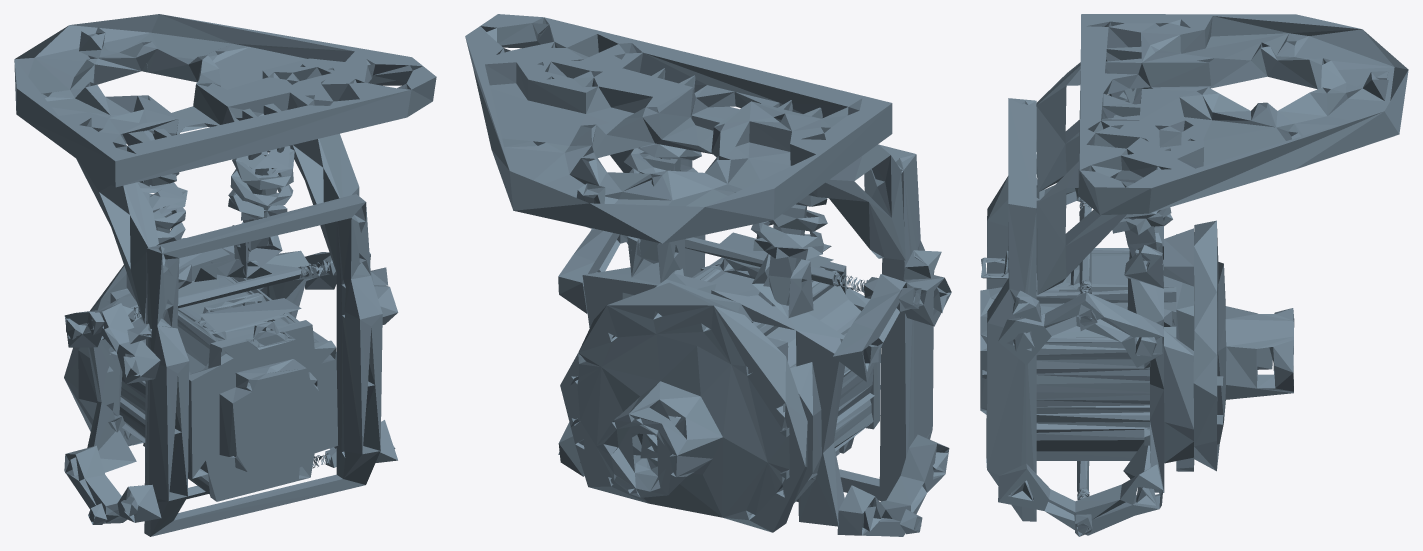
File: steer_FR.dae
3 renders of one model, left to right at view 1: azimuth 30°, elevation 25°; view 2: azimuth 150°, elevation 25°; view 3: azimuth 270°, elevation 25°, orthographic. The views are drawn at different scales.
Parts seen in each view (by area): view 1: node; view 2: node; view 3: node.
Part boxes in pixels (x1=…): node: x1=14, y1=14, x2=436, y2=536; node: x1=465, y1=14, x2=951, y2=536; node: x1=980, y1=14, x2=1408, y2=536.
Size of the model in its own units: 0.3096 by 0.3006 by 0.3062.
